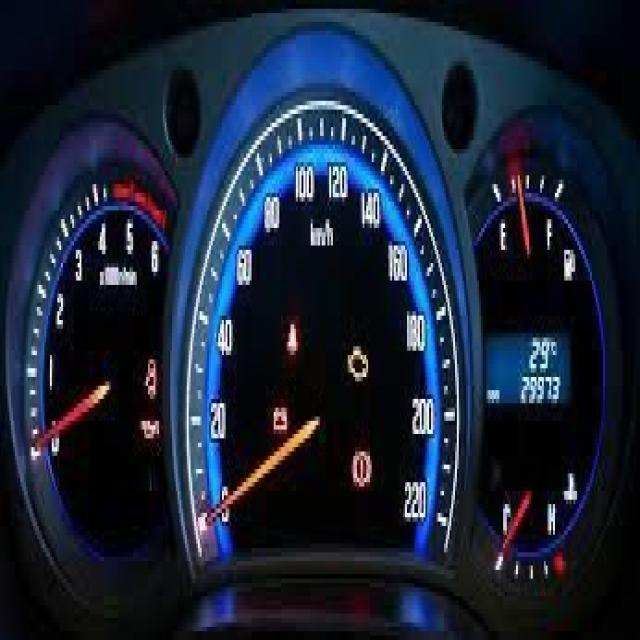kontrolka: (264, 396, 296, 451), (347, 338, 373, 396), (350, 448, 376, 496)
